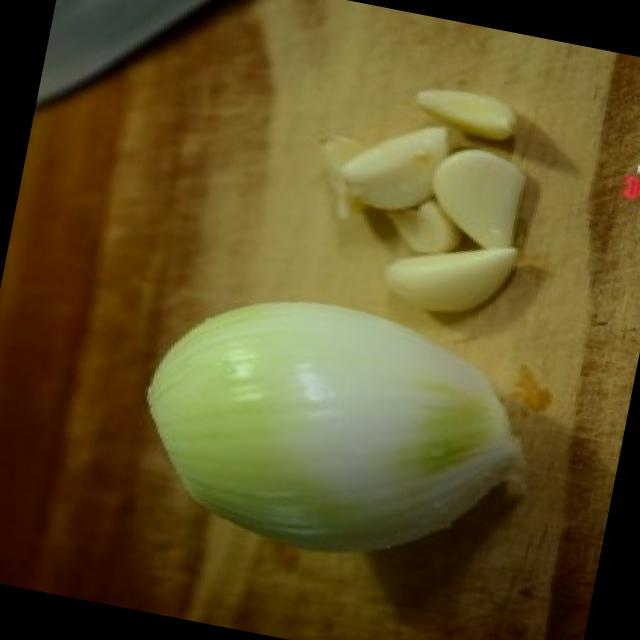onion: (104, 243, 570, 602)
